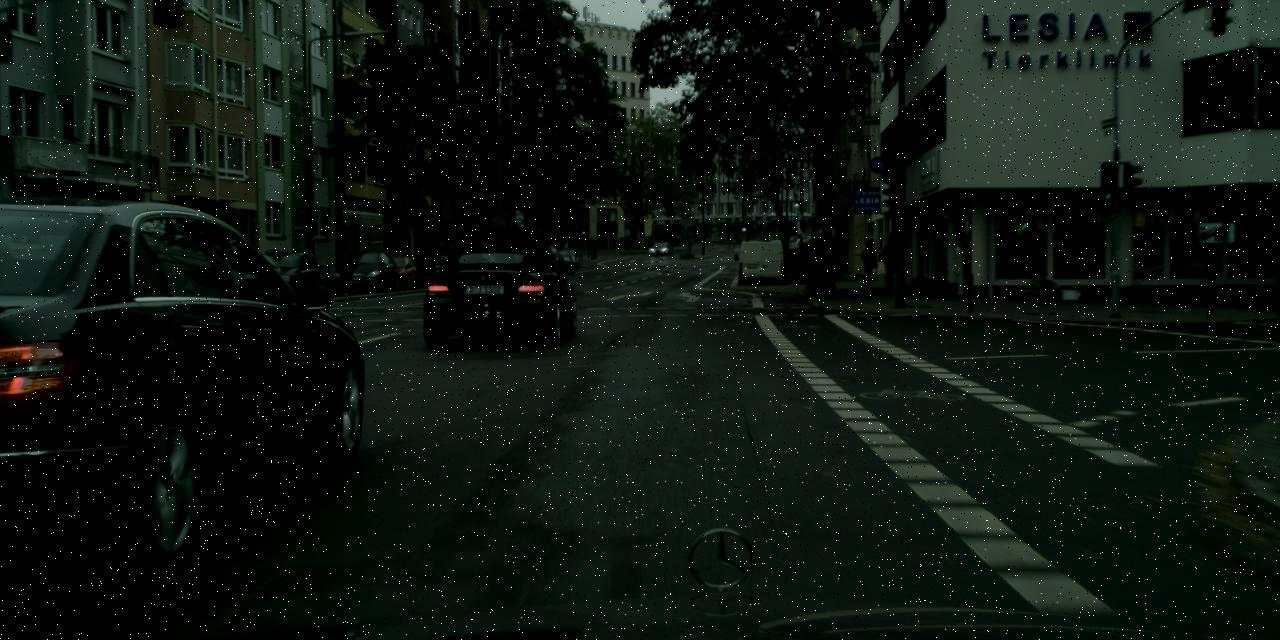ped: (880, 235, 901, 288), (858, 240, 879, 290)
